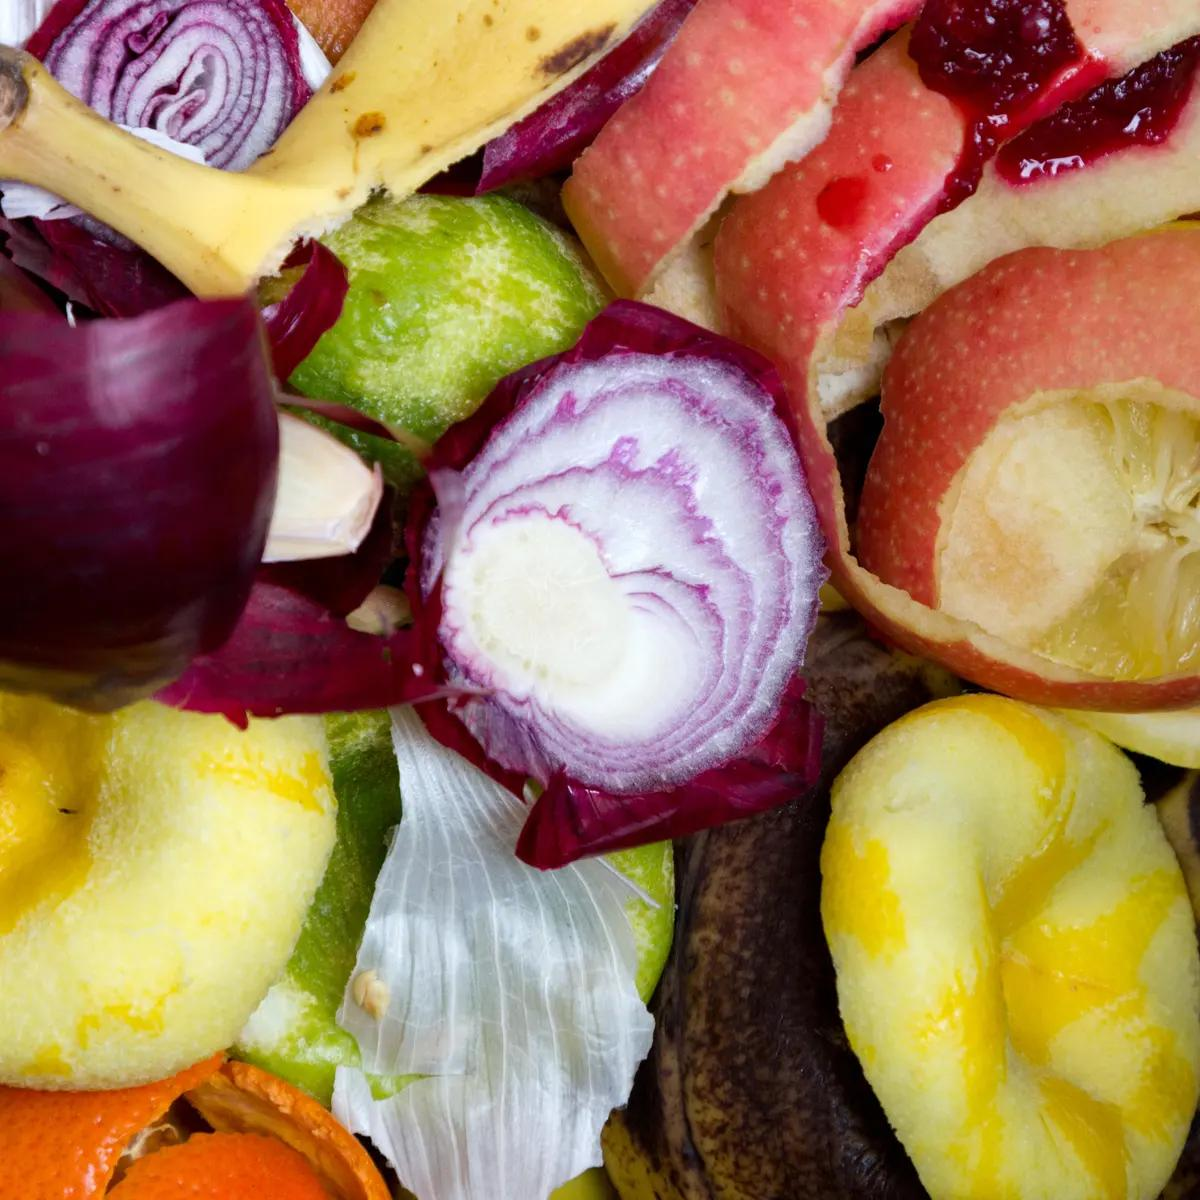organic: (404, 300, 837, 865), (0, 0, 667, 308), (860, 222, 1200, 787), (819, 699, 1200, 1200), (3, 205, 353, 729), (333, 727, 665, 1200), (3, 705, 337, 1088), (259, 184, 615, 502), (556, 0, 927, 298), (5, 0, 320, 188), (0, 1059, 403, 1200)
